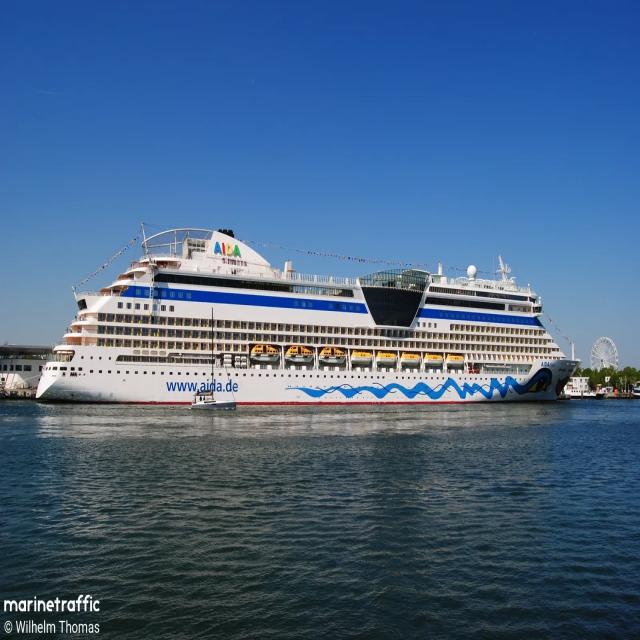Cruise: (36, 228, 580, 409)
